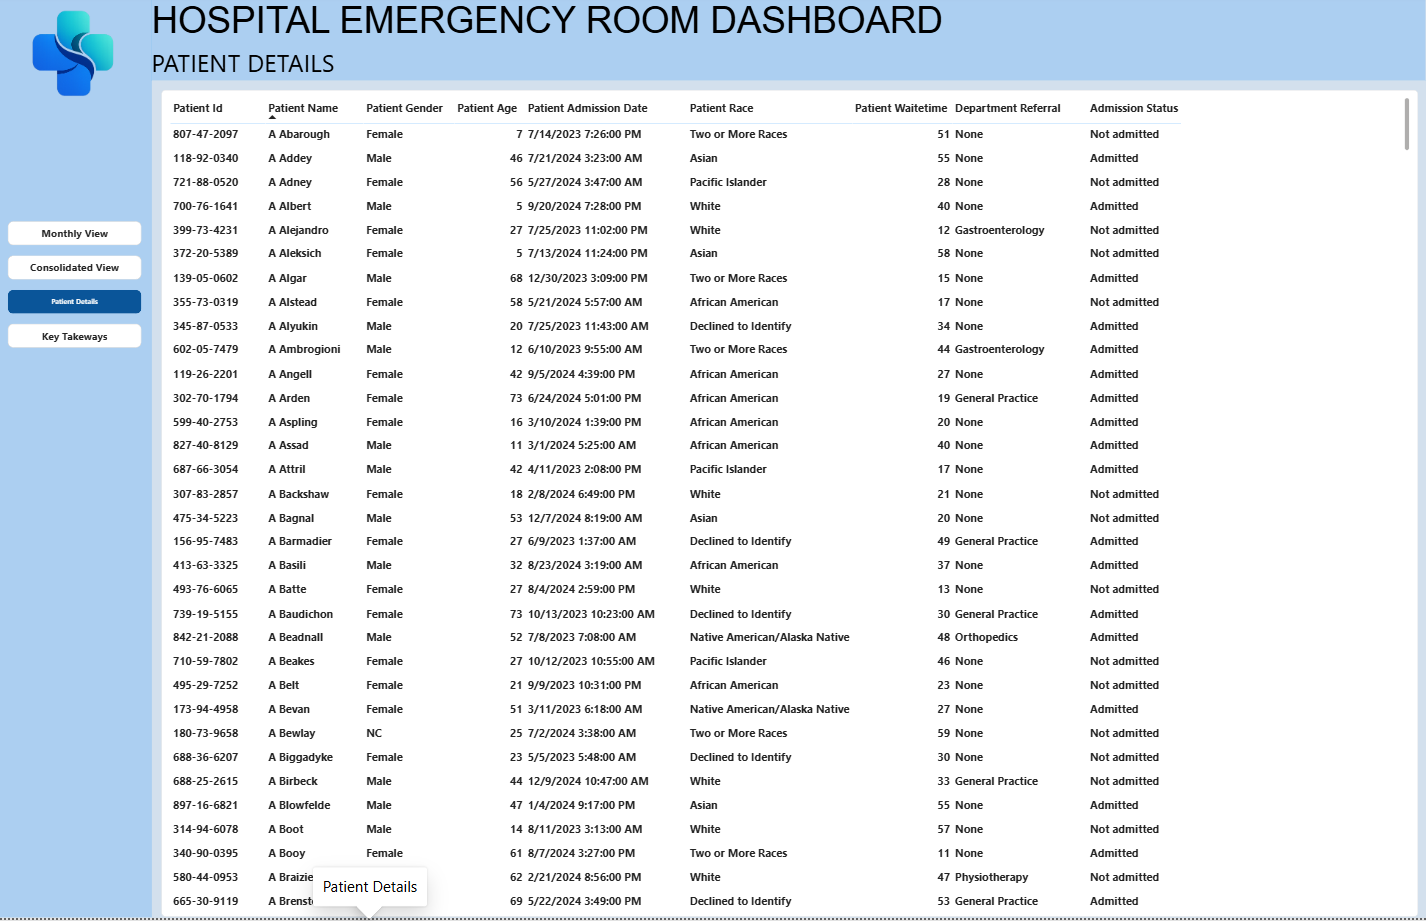

The page's visual inventory and layout, read from the dashboard file:
{"tool":"powerbi","page":{"name":"Patient Details","canvas":[2800,1800],"ordinal":2},"visuals":[{"type":"shape","box":[0,0,299.7,1797.9],"z":0},{"type":"shape","box":[299.8,0,2496.4,157.8],"z":1000},{"type":"textbox","box":[299.7,0,1587.6,105.1],"z":2000},{"type":"textbox","box":[299.8,88.4,498.7,69.4],"z":3000},{"type":"tableEx","fields":{"Values":["Hospital ER_Data.Patient Id","Hospital ER_Data.Full Name","Hospital ER_Data.Patient Gender","Sum(Hospital ER_Data.Patient Age)","Hospital ER_Data.Patient Admission Date","Hospital ER_Data.Patient Race","Sum(Hospital ER_Data.Patient Waittime)","Hospital ER_Data.Department Referral","Hospital ER_Data.Admission Status"]},"box":[317.5,177.5,2462.5,1620],"z":4000},{"type":"pageNavigator","box":[17.5,432.5,262.5,250],"z":5000},{"type":"image","box":[17.5,12.5,255,185],"z":6000}]}

Visuals, with their boxes on the page's 2800x1800 design canvas (x1, y1, x2, y2). These are canvas units, not pixel positions in the 1426x921 screenshot, which may show the page scaled, cropped or inside an application window:
shape: region(0, 0, 300, 1798)
shape: region(300, 0, 2796, 158)
textbox: region(300, 0, 1887, 105)
textbox: region(300, 88, 798, 158)
tableEx - Hospital ER_Data.Patient Id x Hospital ER_Data.Full Name: region(318, 178, 2780, 1798)
pageNavigator: region(18, 432, 280, 682)
image: region(18, 12, 272, 198)
